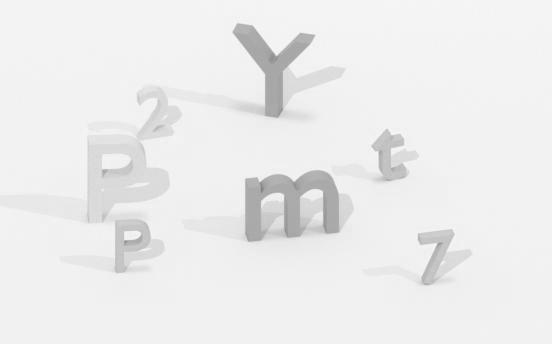chu_khoi: (233, 23, 314, 116), (87, 135, 169, 222), (245, 170, 339, 240), (114, 219, 164, 272), (372, 129, 407, 180)
so_khoi: (137, 86, 181, 139), (418, 229, 454, 284)
